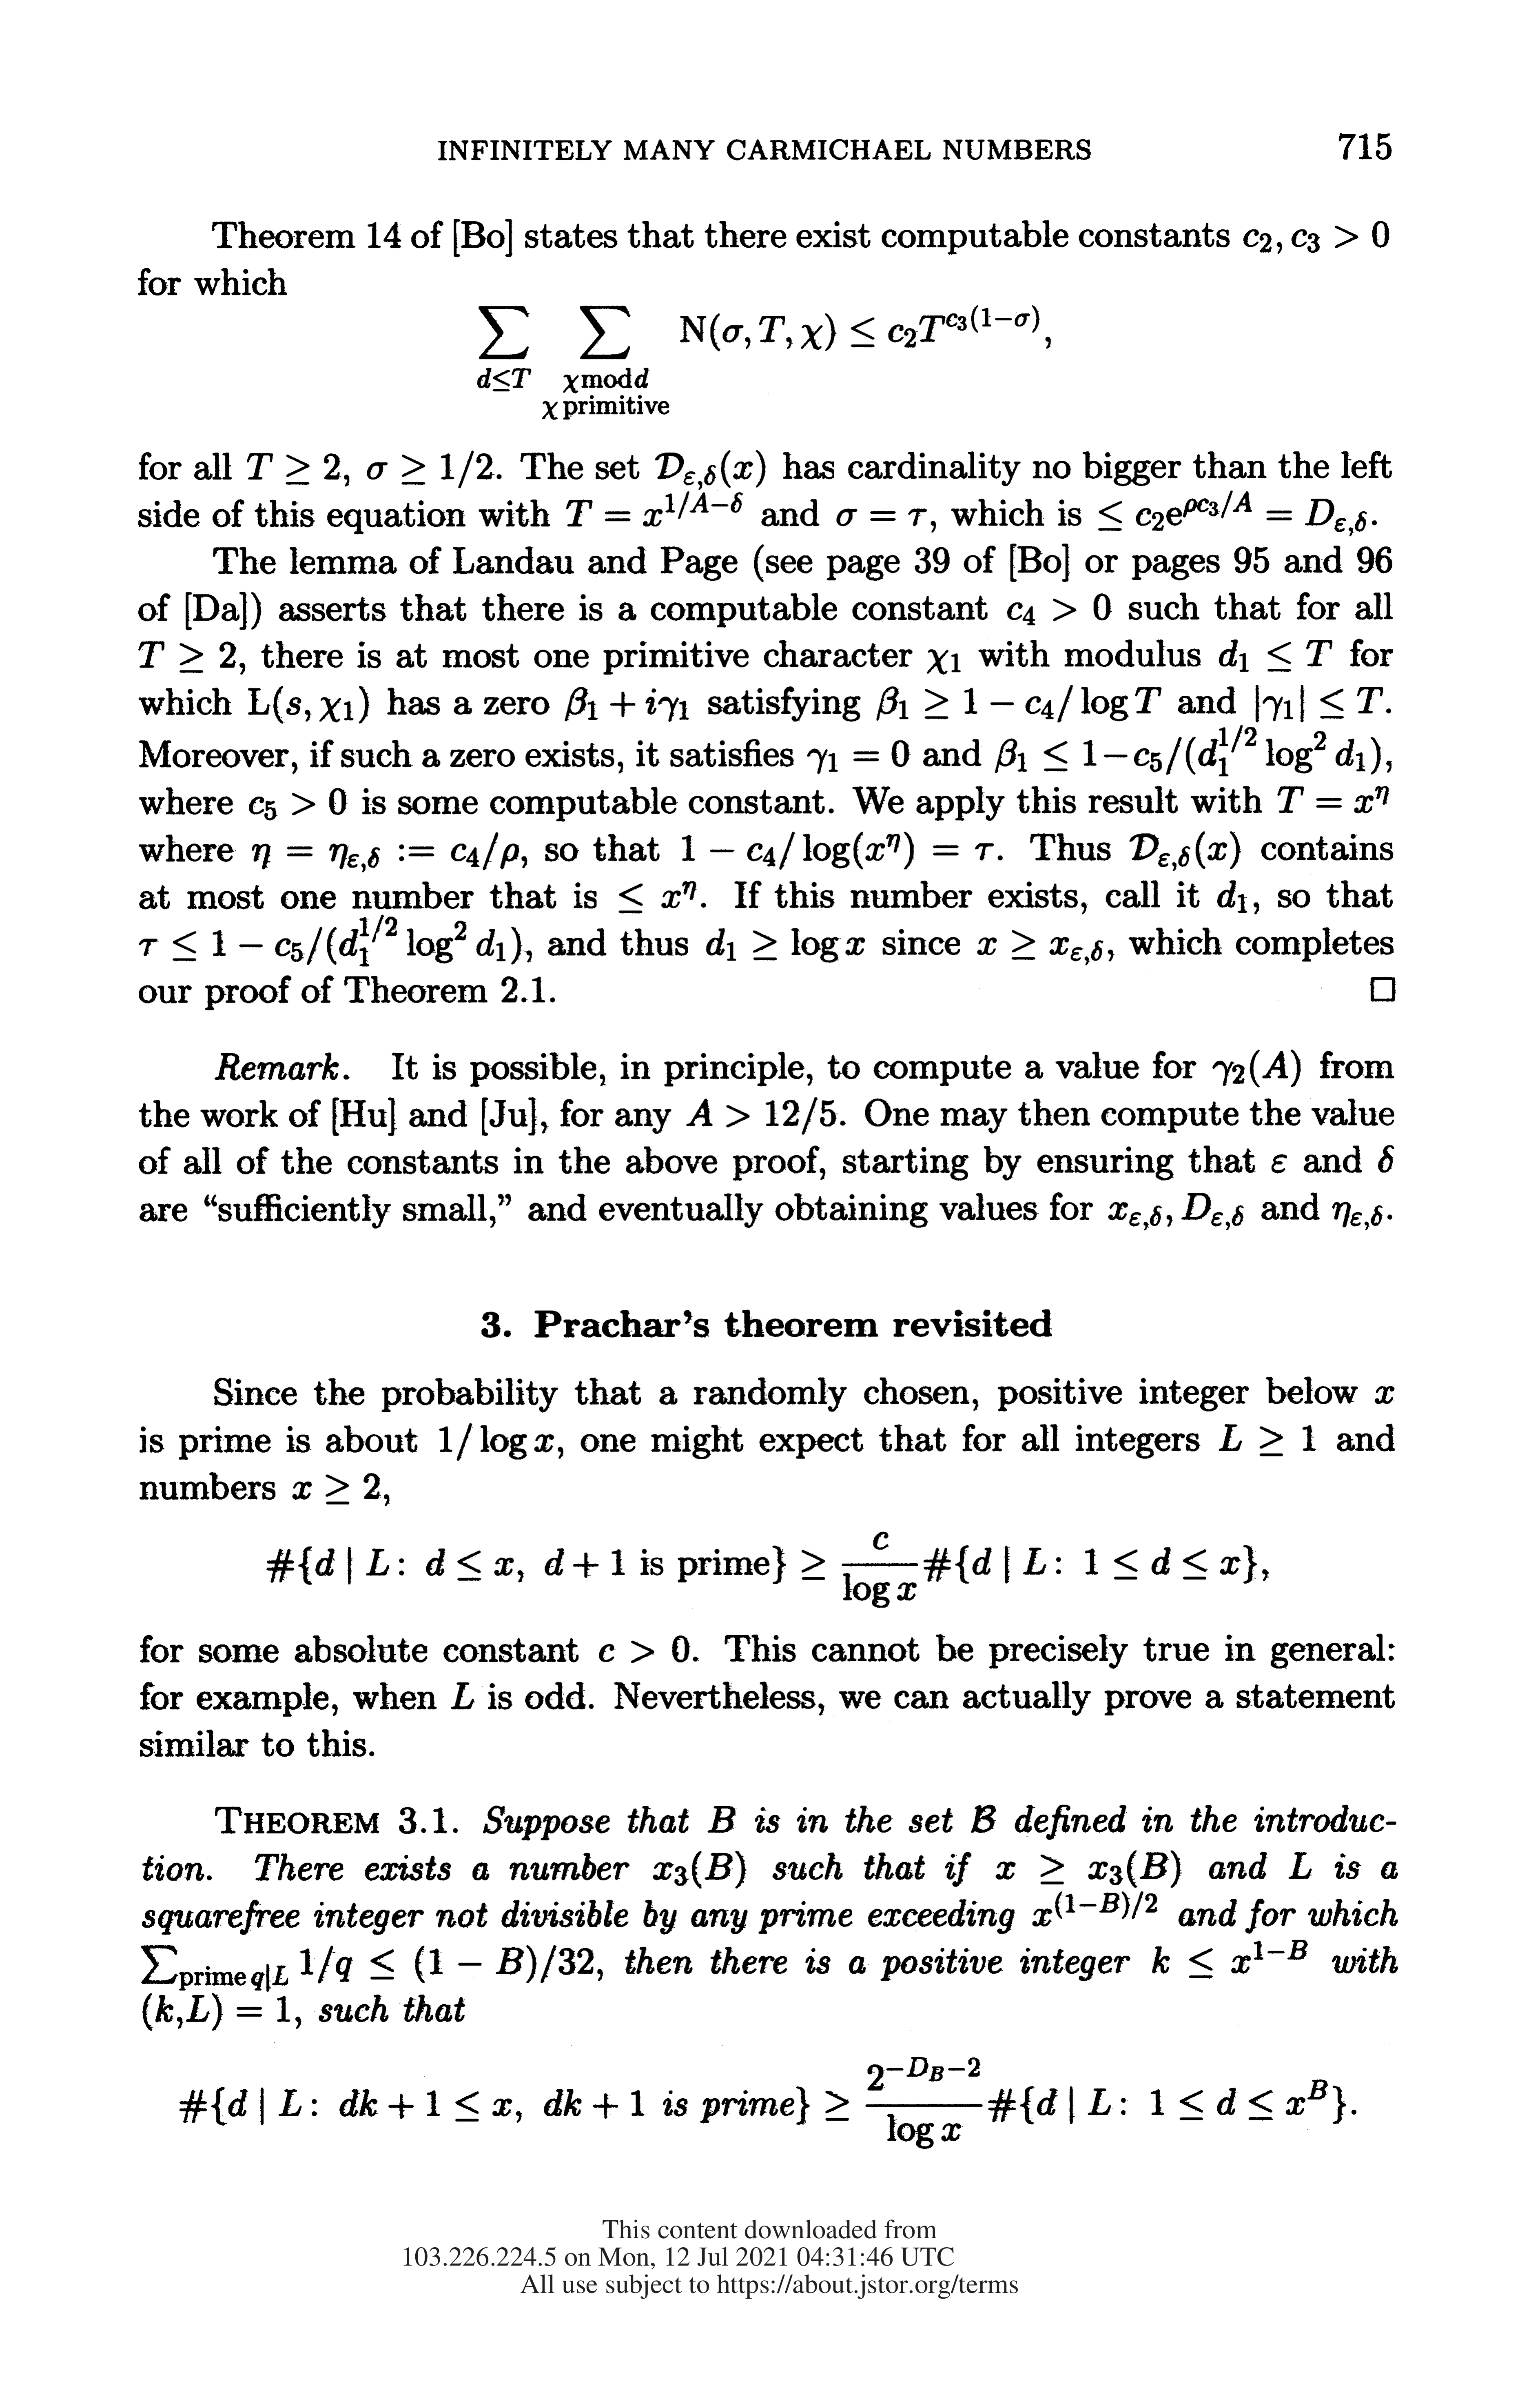maths: (542, 305, 1040, 419), (826, 2057, 1345, 2148), (772, 1532, 1258, 1608), (140, 1945, 593, 1992), (139, 914, 531, 965), (995, 725, 1380, 776), (179, 2087, 521, 2125), (1098, 490, 1366, 535), (682, 832, 995, 869), (877, 684, 1161, 721), (267, 1546, 524, 1585), (996, 1850, 1182, 1888), (567, 491, 742, 527), (1152, 1939, 1307, 1978), (686, 1097, 837, 1134), (142, 1994, 289, 2031), (705, 928, 865, 962), (367, 451, 495, 488), (477, 305, 531, 391), (654, 449, 765, 490), (247, 686, 368, 723), (398, 832, 519, 869), (977, 930, 1103, 965), (1263, 684, 1382, 721), (565, 686, 688, 721), (1130, 832, 1240, 871), (438, 1423, 554, 1460), (1033, 1892, 1158, 1925), (1219, 639, 1333, 670), (253, 844, 379, 872), (807, 741, 910, 774), (652, 1852, 745, 1888), (247, 453, 349, 486), (1007, 593, 1112, 625), (1212, 1050, 1300, 1086), (1219, 1423, 1315, 1457), (1291, 221, 1389, 253), (249, 788, 347, 820), (139, 641, 235, 672), (544, 2089, 644, 2118), (1277, 786, 1389, 813), (293, 1473, 381, 1504), (619, 881, 696, 913), (544, 1548, 624, 1578), (598, 1636, 689, 1662), (1182, 1193, 1244, 1230), (1109, 1202, 1172, 1230), (837, 509, 926, 525), (1333, 1202, 1382, 1230), (1217, 881, 1247, 913), (1244, 230, 1282, 253), (926, 649, 959, 674), (709, 1806, 737, 1832), (972, 1804, 996, 1832), (1370, 976, 1396, 1000), (451, 1683, 474, 1709), (1289, 1852, 1312, 1878), (1379, 1144, 1394, 1172), (1375, 1387, 1394, 1404), (1272, 1155, 1287, 1172)
